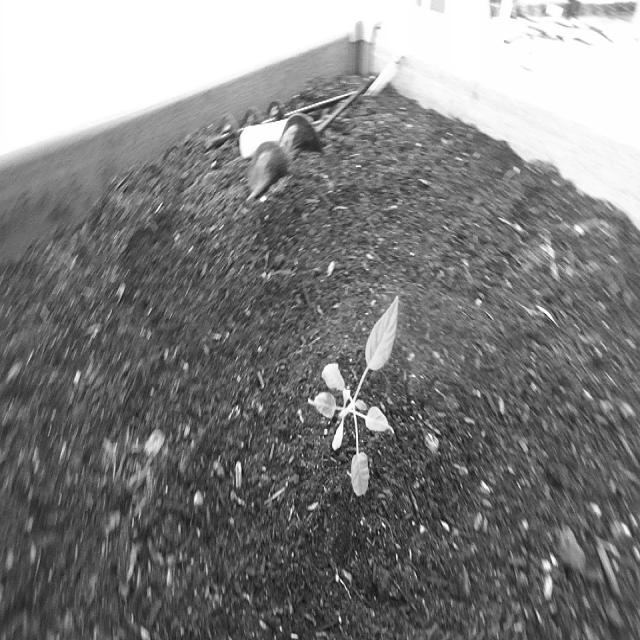Unhealthy: (305, 294, 404, 512)
